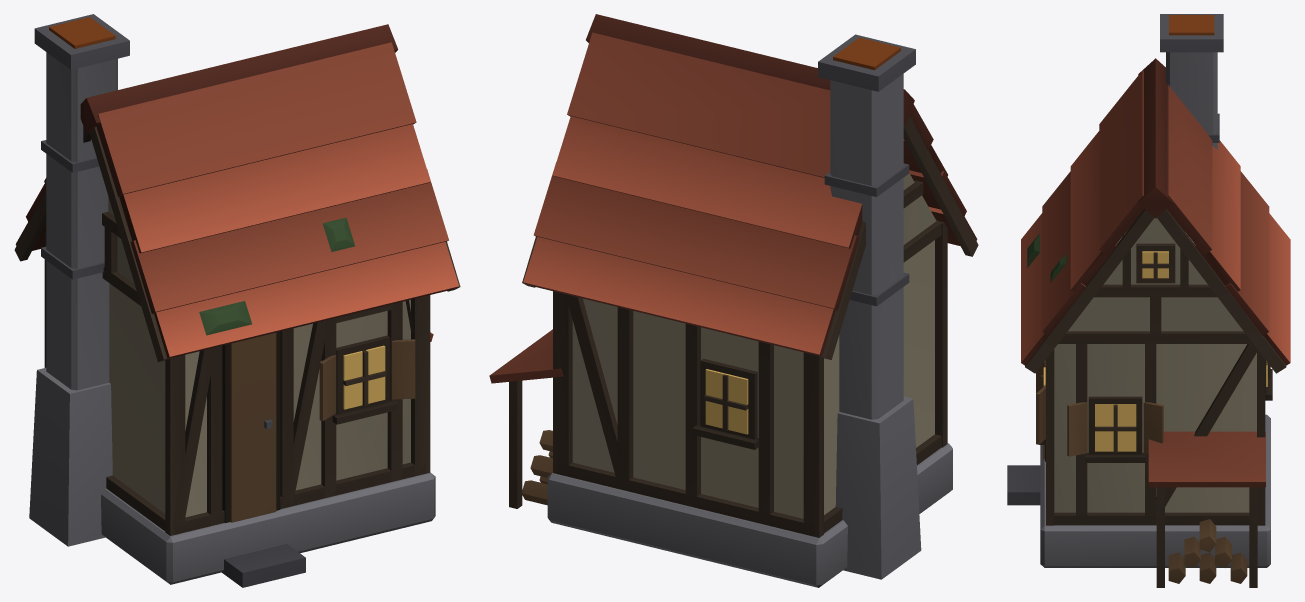
File: house.glb
3 renders of one model, left to right at view 1: azimuth 30°, elevation 25°; view 2: azimuth 150°, elevation 25°; view 3: azimuth 270°, elevation 25°, orthographic. The views are drawn at different scales.
Parts seen in each view (by area): view 1: house; view 2: house; view 3: house.
Boxes of the visible parts, x1,y1,x2,y2 form: house: (14, 14, 460, 587); house: (489, 14, 978, 587); house: (1007, 14, 1290, 587).
Size of the model in its own units: 3.53 by 4.62 by 2.75.
